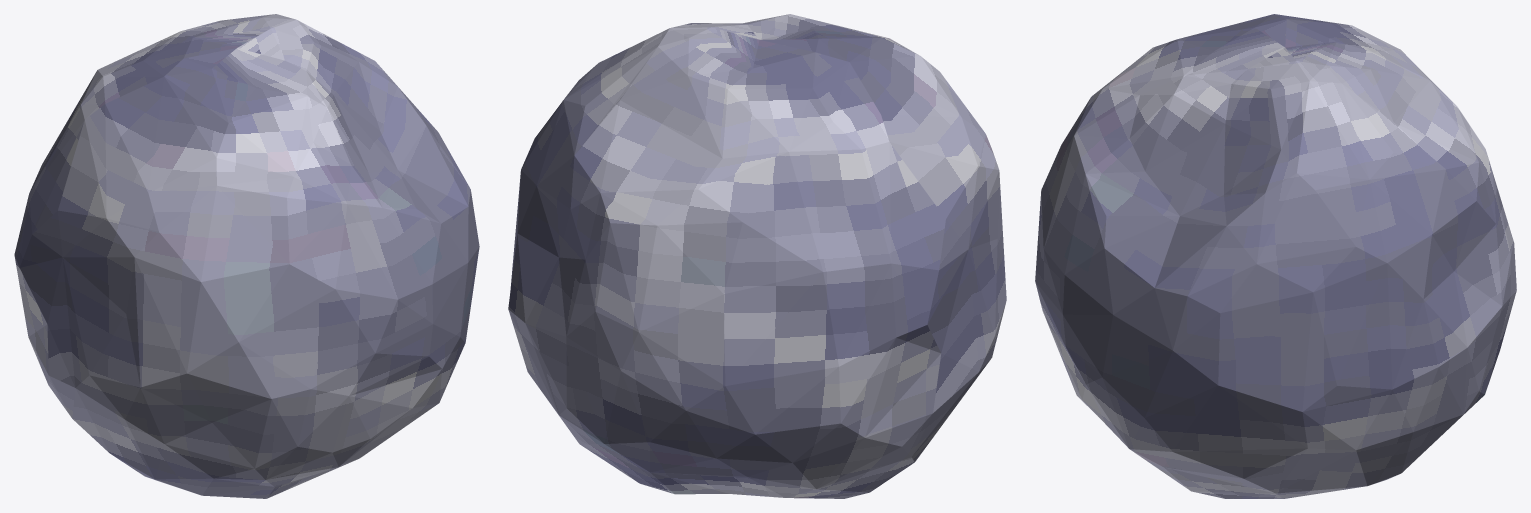
Rendered from mars.obj.
The picture shows the model from 3 angles, left to right: view 1: azimuth 30°, elevation 25°; view 2: azimuth 150°, elevation 25°; view 3: azimuth 270°, elevation 25°; orthographic projection. The views are drawn at different scales.
Visible parts, largest first — view 1: Sphere; view 2: Sphere; view 3: Sphere.
Part boxes in pixels (bbox=[...]): Sphere: bbox=[14, 14, 479, 498]; Sphere: bbox=[508, 14, 1006, 498]; Sphere: bbox=[1035, 14, 1516, 498].
Size of the model in its own units: 1.78 by 1.88 by 1.87.
